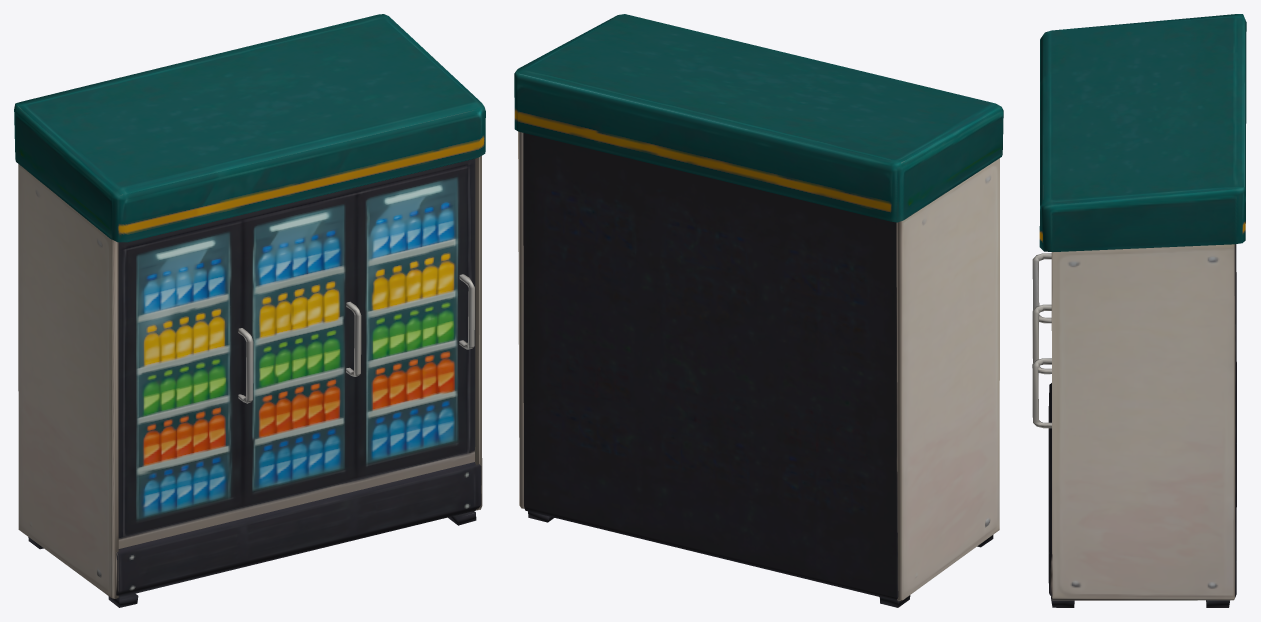
File: refrigerator.glb
The picture shows the model from 3 angles, left to right: view 1: azimuth 30°, elevation 25°; view 2: azimuth 150°, elevation 25°; view 3: azimuth 270°, elevation 25°; orthographic projection. The views are drawn at different scales.
Visible parts, largest first — view 1: geometry_0; view 2: geometry_0; view 3: geometry_0.
Part boxes in pixels (<box>): geometry_0: <box>14,14,485,607</box>; geometry_0: <box>514,14,1003,607</box>; geometry_0: <box>1032,14,1246,607</box>.
Bounding box in the file's own units: 0.9067 × 1 × 0.4602.
1 material, 1 textured.
